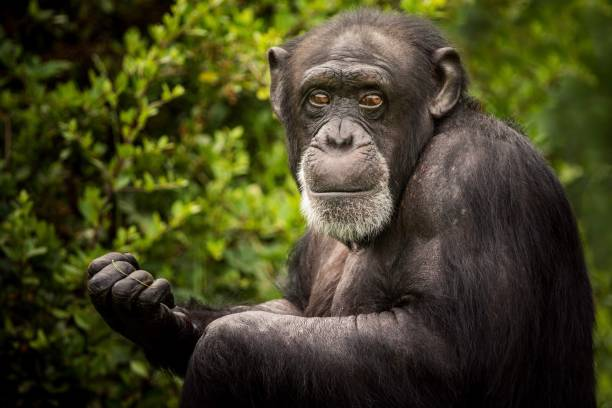chimpanzee: (247, 5, 473, 262)
